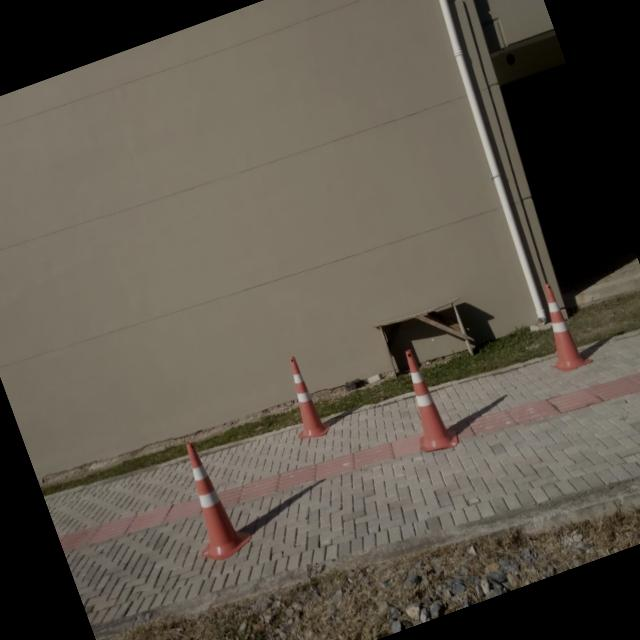cone: (156, 426, 260, 573), (379, 336, 470, 464), (519, 272, 598, 381), (270, 350, 336, 446)
